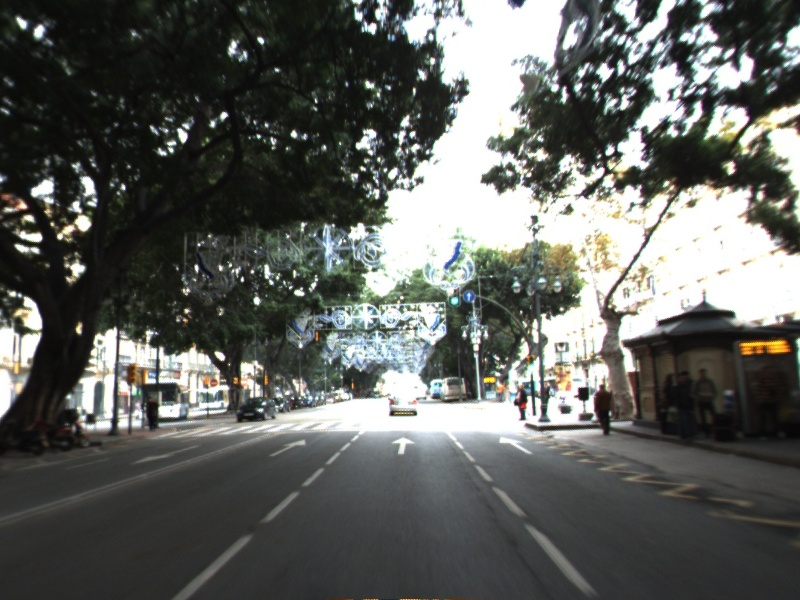STRAIGHT: (267, 437, 309, 459), (496, 434, 536, 457), (389, 435, 418, 456)
